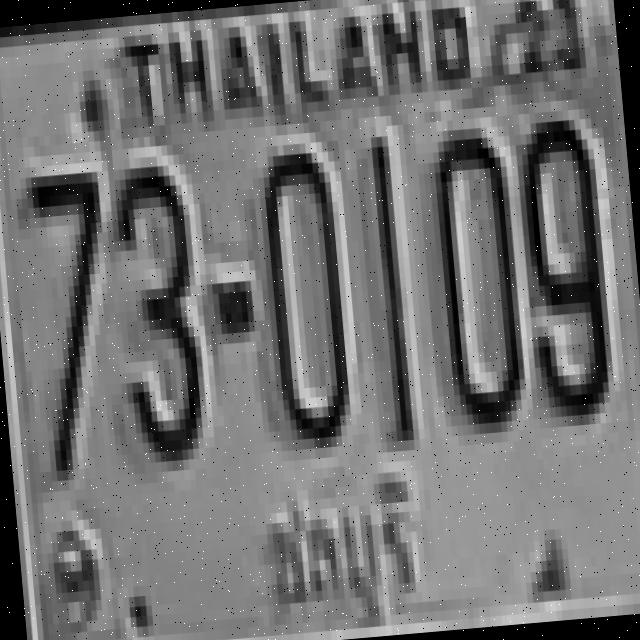0: (424, 116, 522, 426), (255, 141, 352, 441)
1: (353, 130, 412, 438), (364, 130, 412, 437), (362, 130, 410, 437), (367, 131, 410, 436)
3: (102, 159, 204, 459)
7: (16, 161, 119, 472)
9: (510, 109, 608, 418)
Chonburi: (252, 452, 433, 640)
